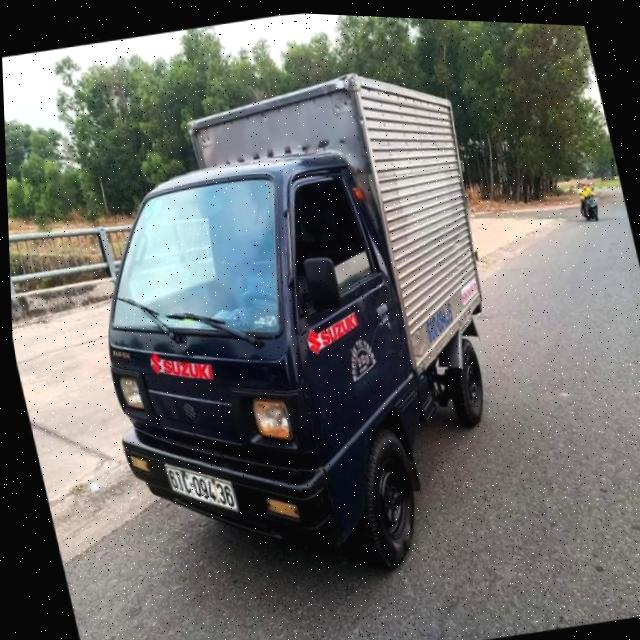car: (62, 47, 533, 608)
plate: (162, 454, 242, 521)
